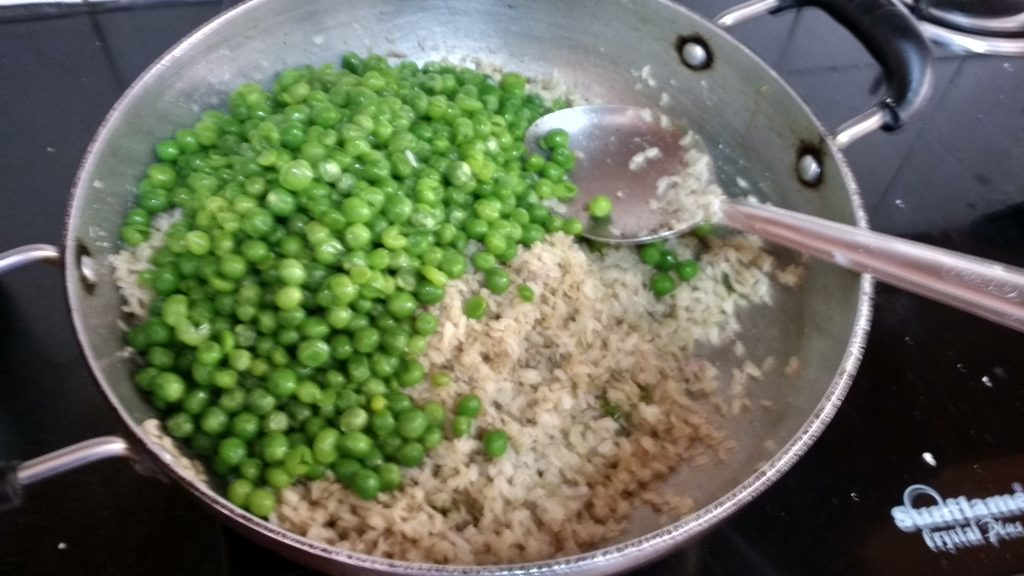boiled peas: (128, 56, 567, 490)
plain rice: (393, 268, 761, 556)
